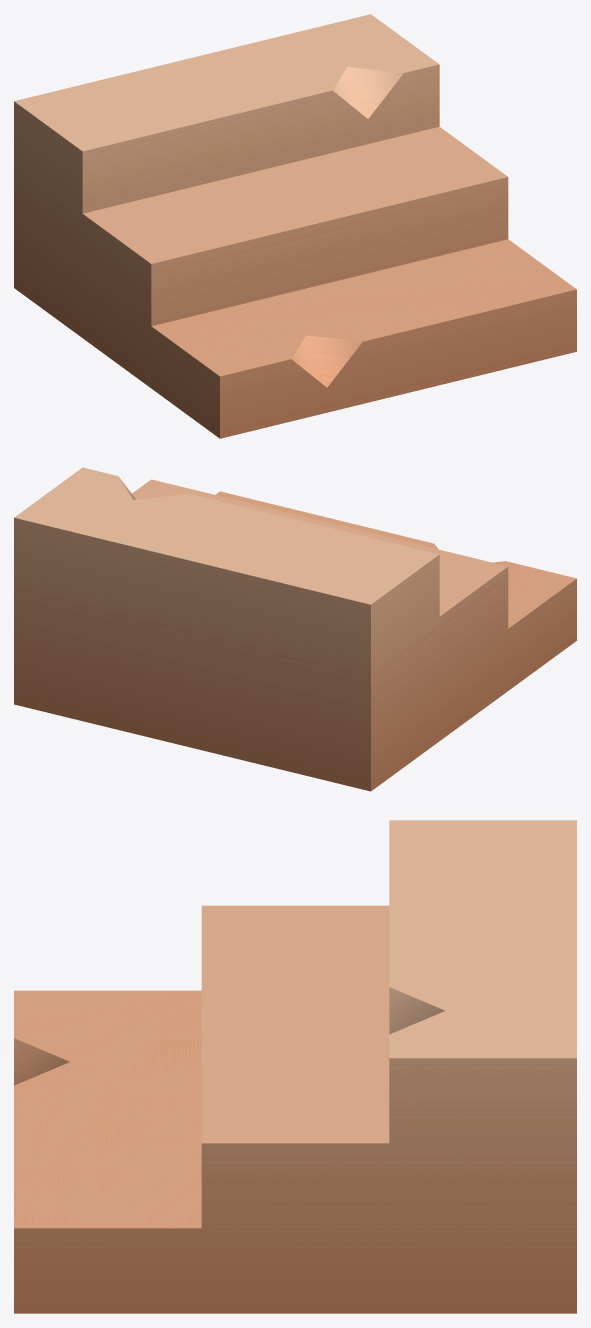
Rendered from stairs.glb.
3 renders of one model, top to bottom at view 1: azimuth 30°, elevation 25°; view 2: azimuth 150°, elevation 25°; view 3: azimuth 270°, elevation 25°, orthographic. The views are drawn at different scales.
Parts seen in each view (by area): view 1: stairs; view 2: stairs; view 3: stairs.
Part boxes in pixels (<box>): stairs: <box>14,14,576,438</box>; stairs: <box>14,467,576,791</box>; stairs: <box>14,820,576,1313</box>.
Bounding box in the file's own units: 1 × 0.5 × 1.
1 material, 1 textured.
